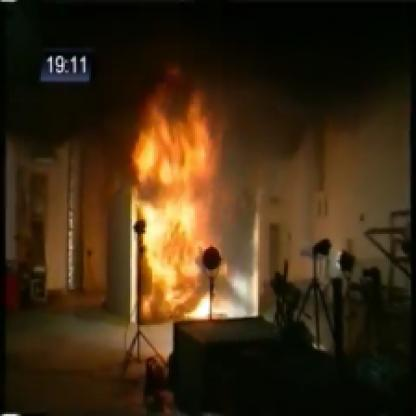fire: (116, 73, 247, 323)
